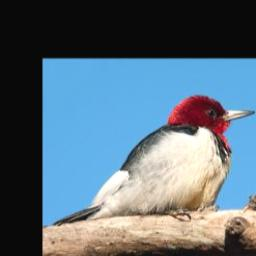Woodpecker: (52, 94, 256, 225)
